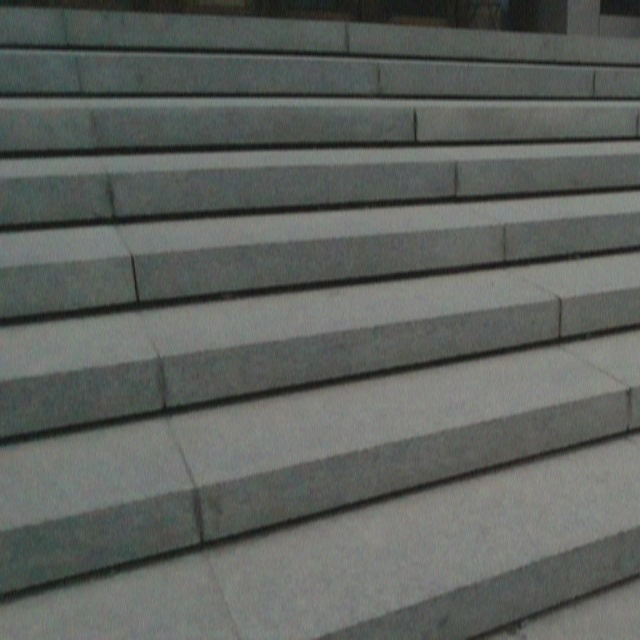stair: (0, 0, 636, 634)
